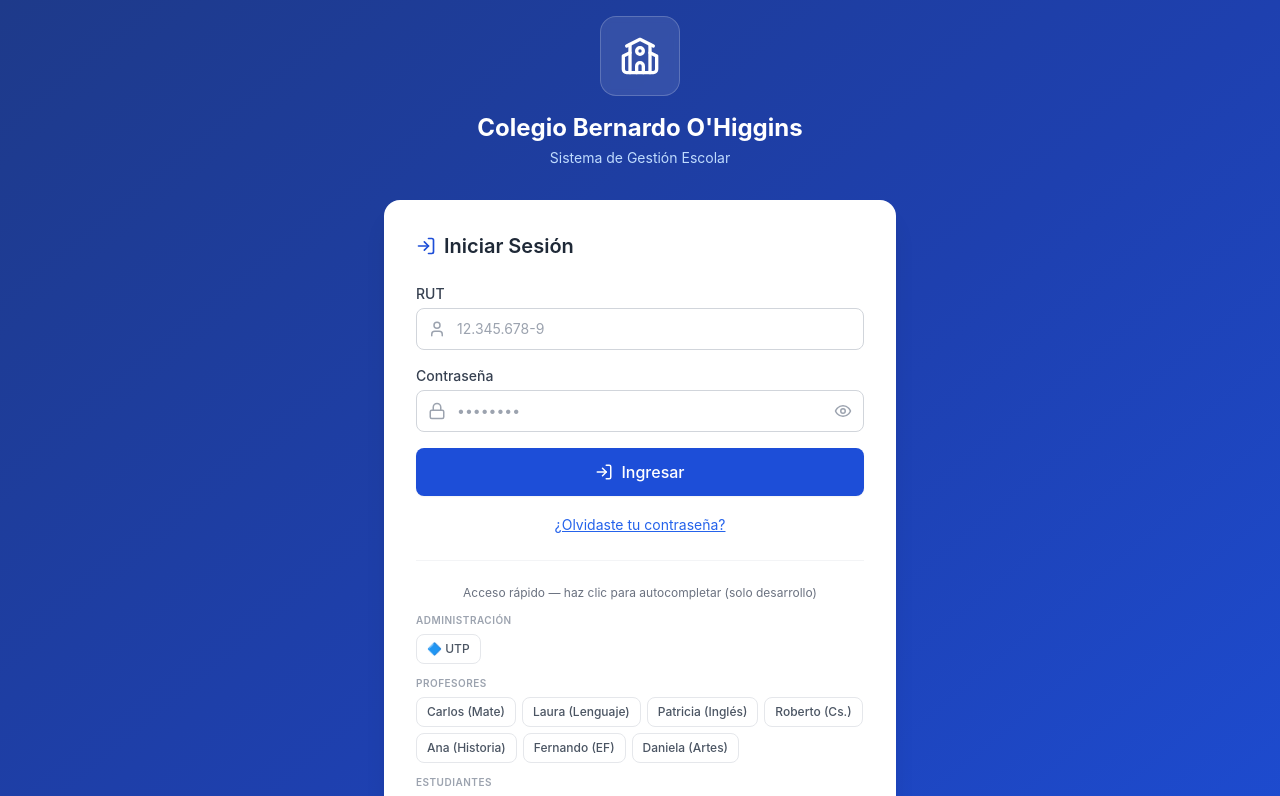
Test: Login › muestra un error comprensible si las credenciales son rechazadas
Type "12345678-9" into the field with placeholder "12.345.678-9" at (640, 329), box [416, 308, 864, 350]
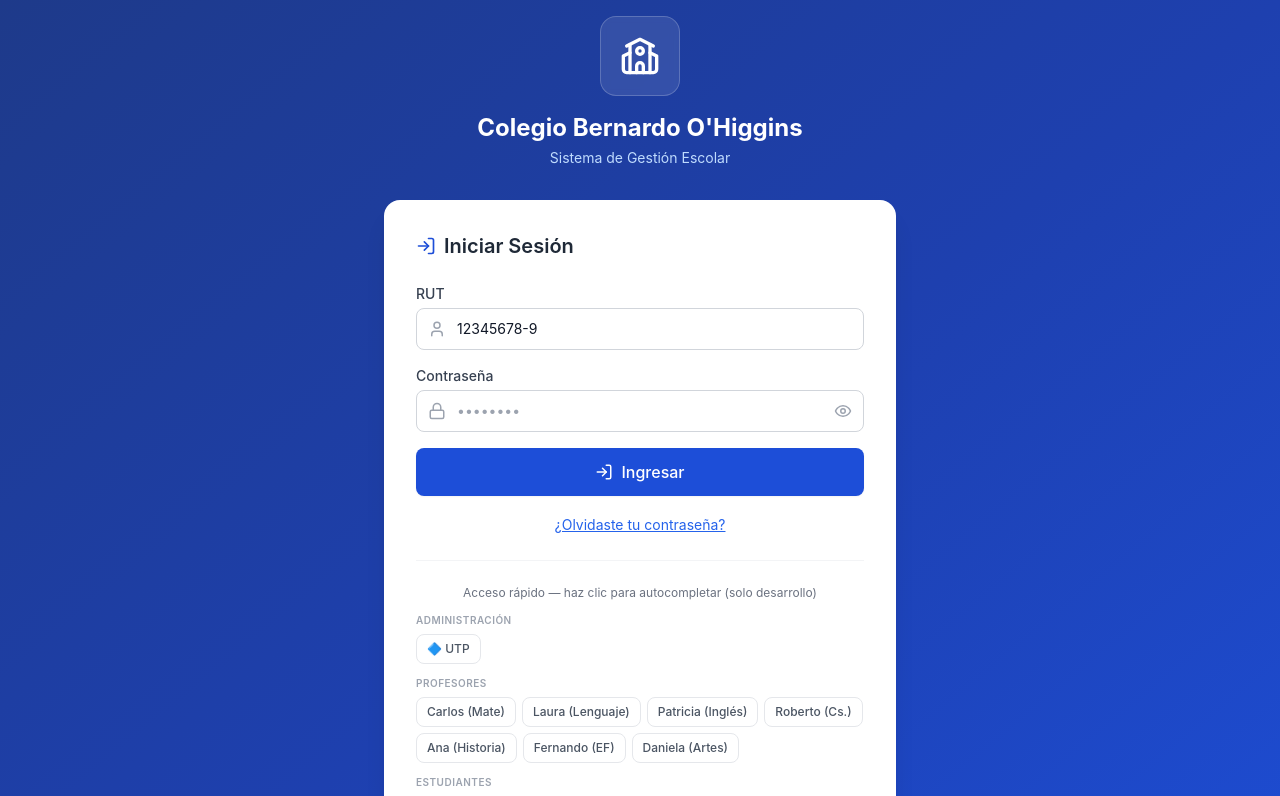
Type "incorrecta" into the password field with placeholder "••••••••" at (640, 411), box [416, 390, 864, 432]
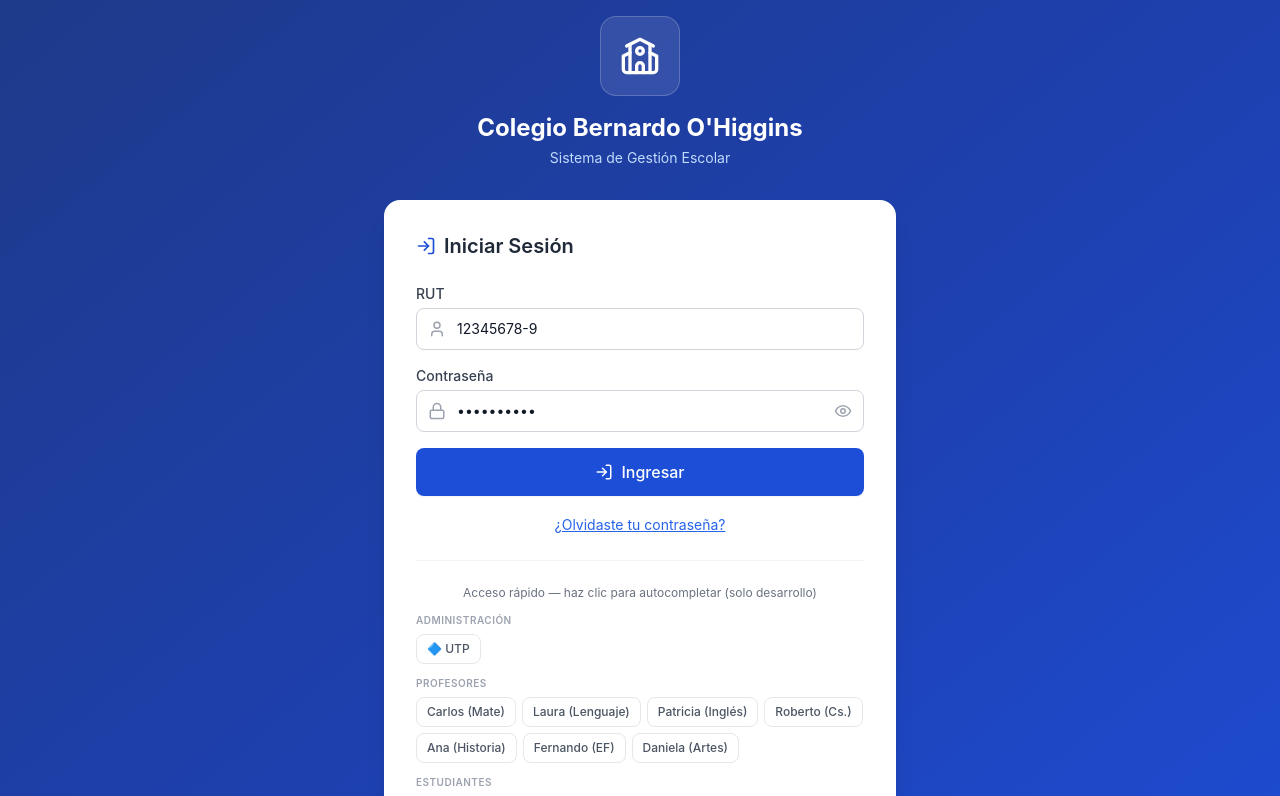
Click the button "Ingresar" at (640, 472), box [416, 448, 864, 496]
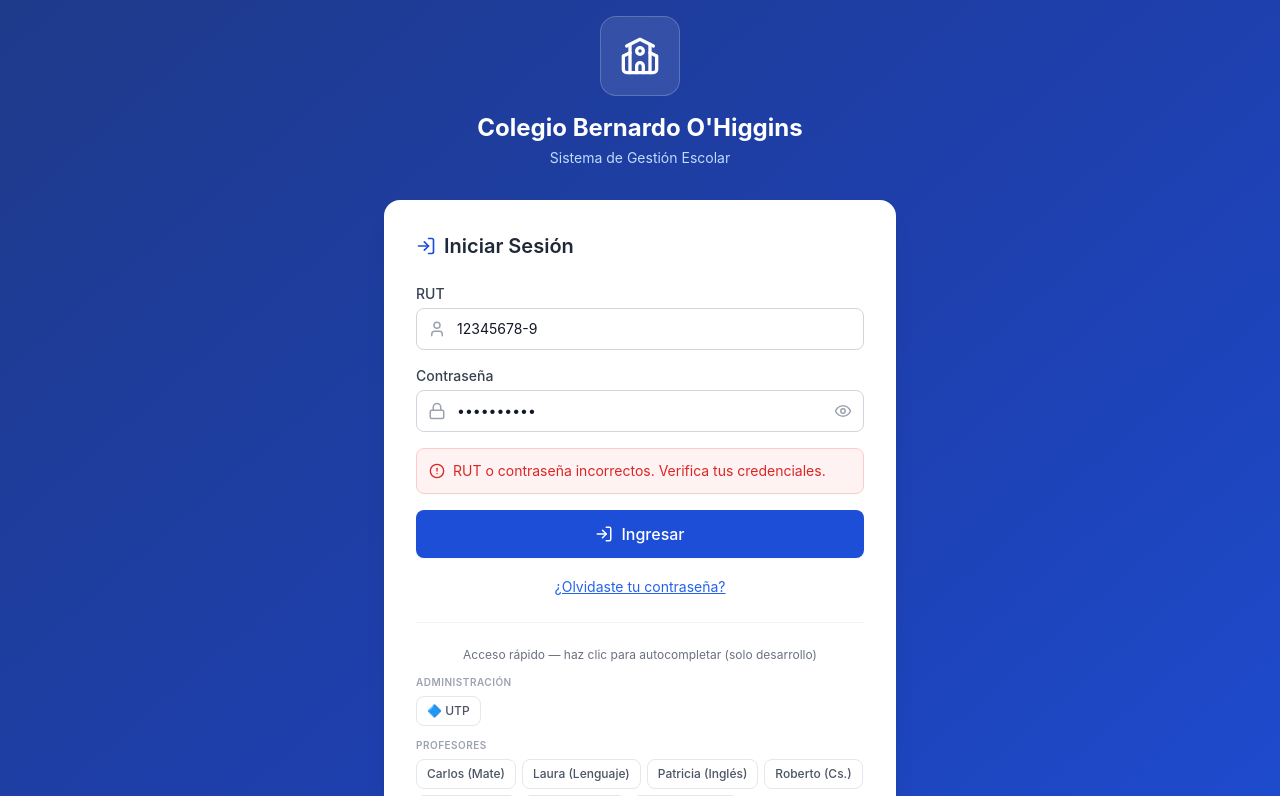
Check: the text "RUT o contraseña incorrectos. Verifica tus credenciales." is shown, box [416, 448, 864, 494]
